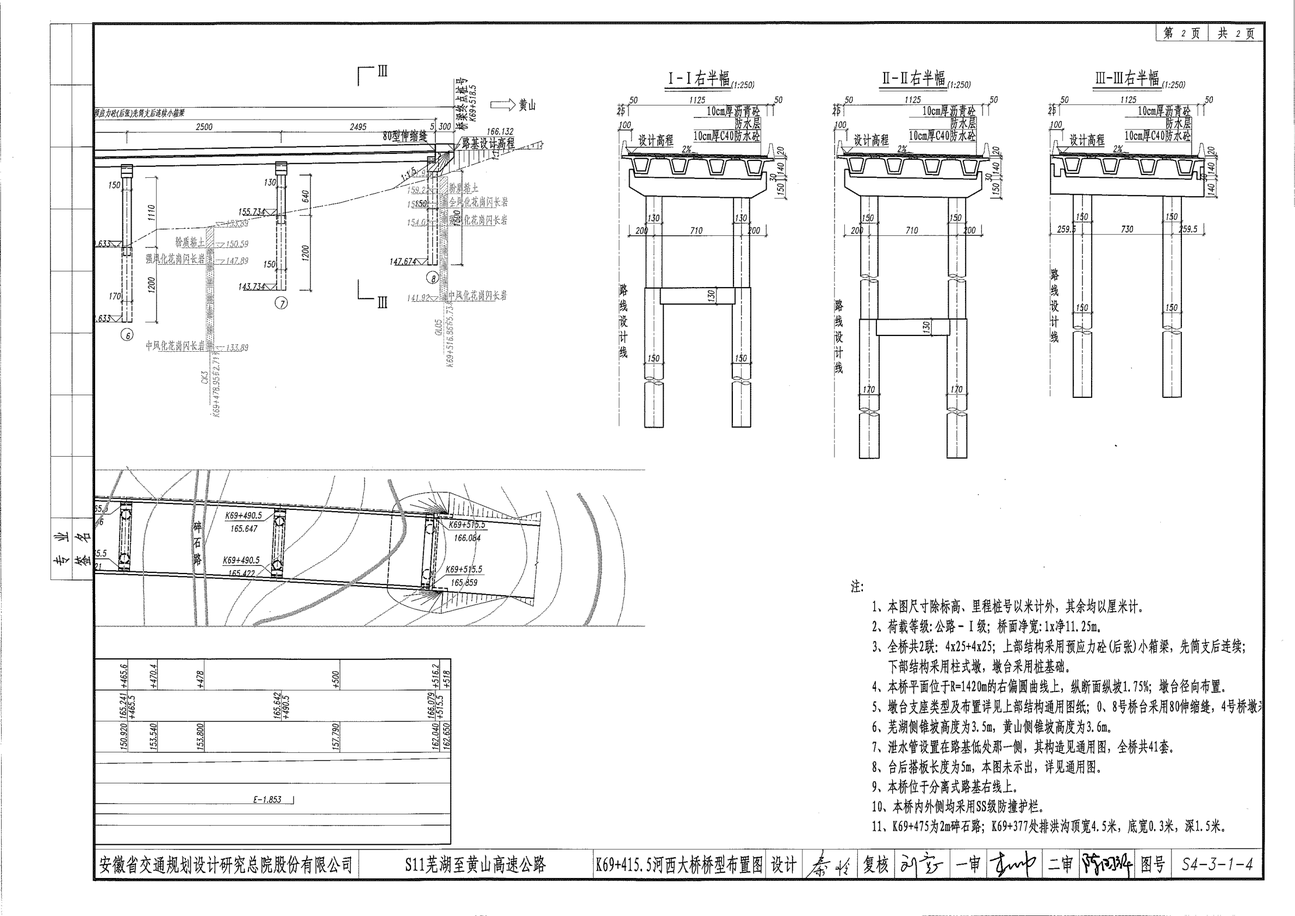A: (96, 59, 550, 358)
